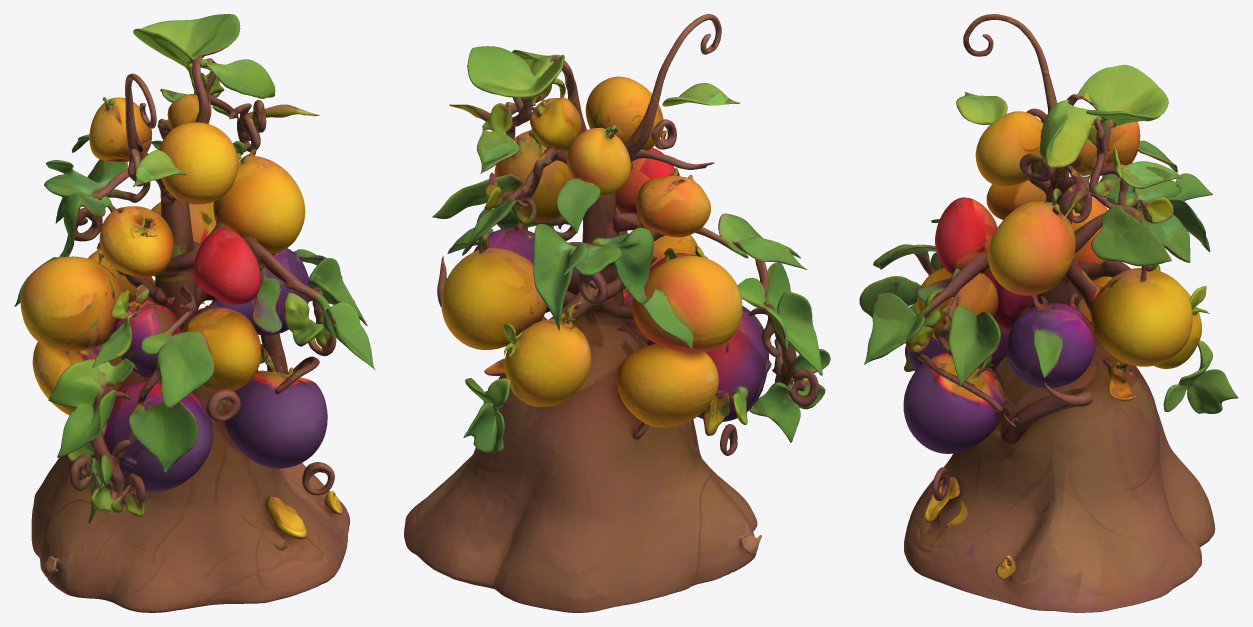
The model's file is fruit.glb.
The picture shows the model from 3 angles, left to right: view 1: azimuth 30°, elevation 25°; view 2: azimuth 150°, elevation 25°; view 3: azimuth 270°, elevation 25°; orthographic projection. The views are drawn at different scales.
Size of the model in its own units: 1.39 by 2 by 1.41.
1 material, 1 textured.
